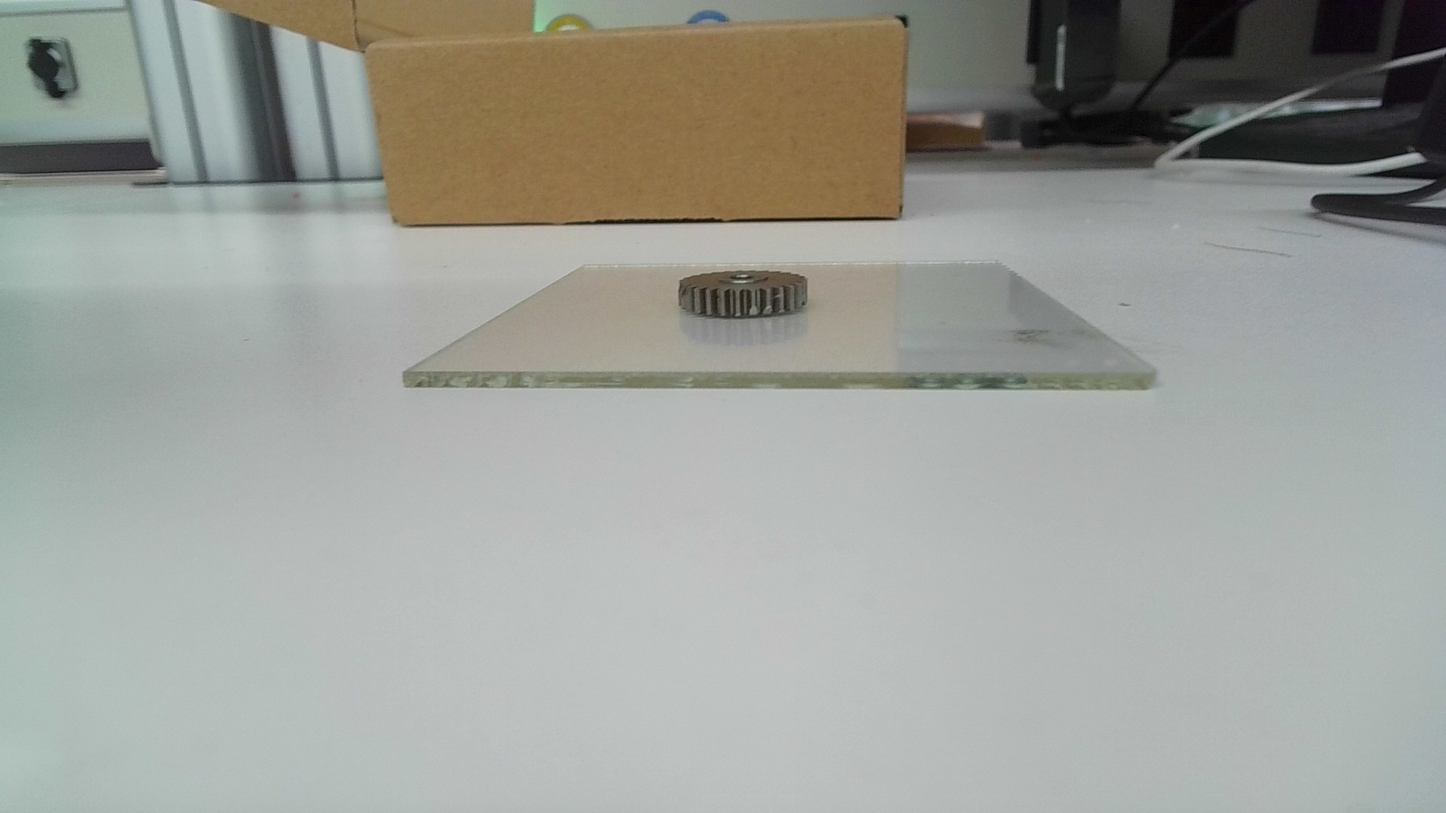gear: (675, 268, 812, 318)
